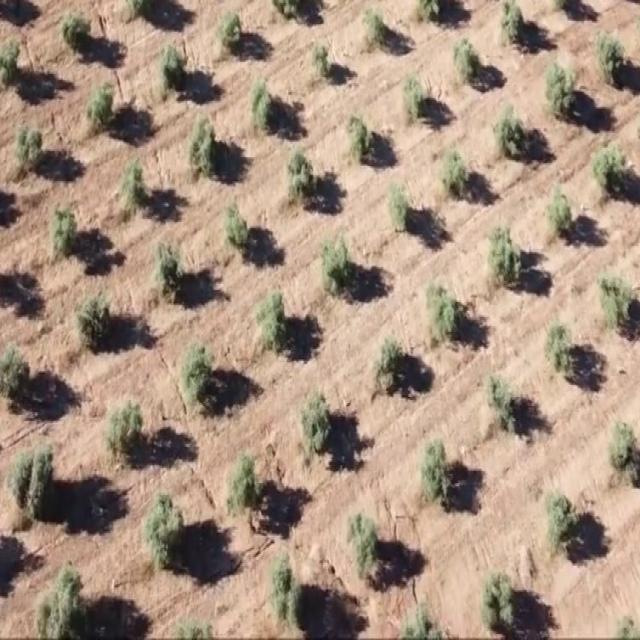trees: (3, 442, 56, 534), (34, 560, 91, 640), (593, 257, 640, 349), (586, 129, 636, 212), (142, 490, 188, 574), (317, 229, 366, 304), (606, 400, 640, 508), (416, 425, 458, 512), (225, 445, 267, 531), (540, 49, 586, 124), (420, 273, 464, 349), (484, 212, 524, 290), (268, 560, 307, 640), (488, 100, 535, 166), (180, 337, 220, 414), (434, 140, 478, 208), (295, 382, 332, 462), (589, 23, 631, 92), (541, 312, 579, 388), (344, 511, 381, 588), (104, 392, 144, 463), (481, 574, 522, 640), (74, 297, 114, 362), (255, 284, 292, 354), (0, 339, 33, 411), (544, 482, 576, 556), (484, 370, 521, 433), (341, 110, 377, 174), (188, 115, 221, 182), (544, 186, 579, 248), (373, 331, 406, 396), (448, 35, 483, 93), (222, 198, 254, 260), (284, 146, 316, 208), (400, 66, 433, 126), (154, 240, 186, 300), (249, 75, 279, 139), (52, 200, 82, 262), (59, 8, 93, 61), (84, 81, 118, 134), (384, 180, 414, 238), (120, 157, 152, 211), (361, 1, 393, 52), (494, 0, 527, 48), (13, 125, 44, 176), (160, 44, 190, 96), (215, 5, 245, 56), (0, 38, 22, 94), (309, 39, 334, 80)
